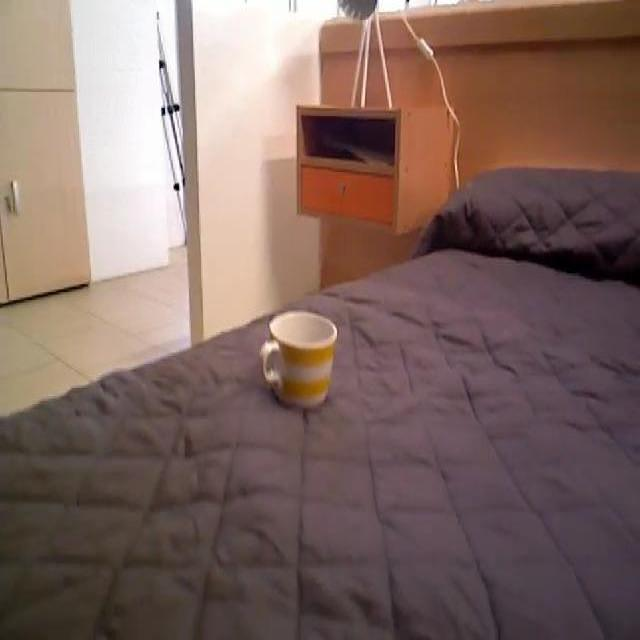cup: (258, 309, 343, 414)
